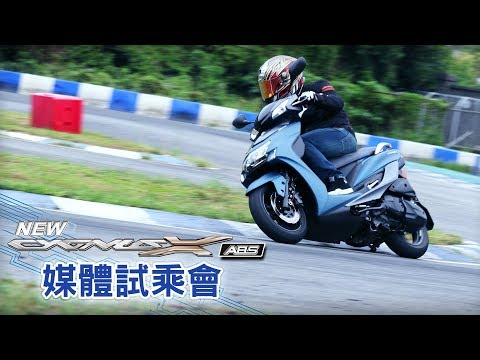helmet: (253, 58, 306, 100)
